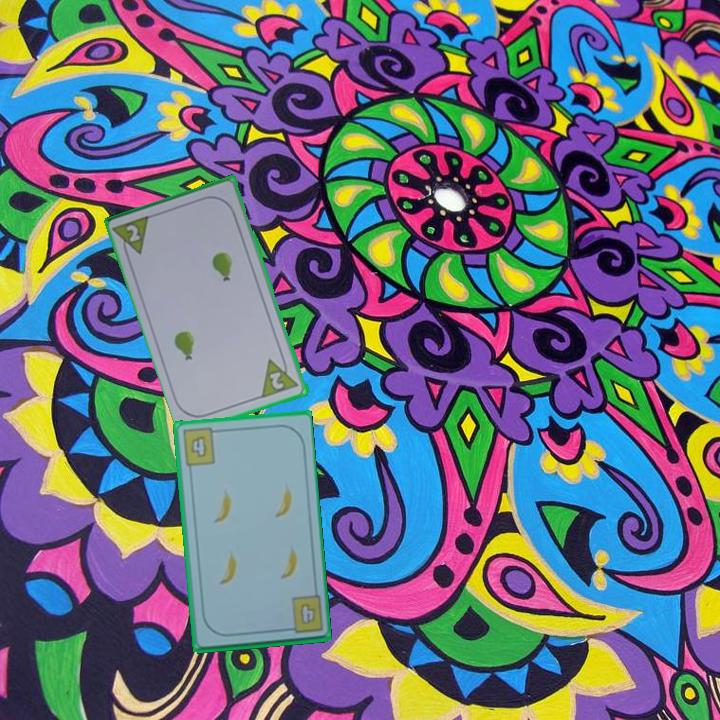2p: (111, 212, 154, 263), (266, 368, 287, 393)
4b: (281, 592, 325, 636), (179, 425, 222, 469)
